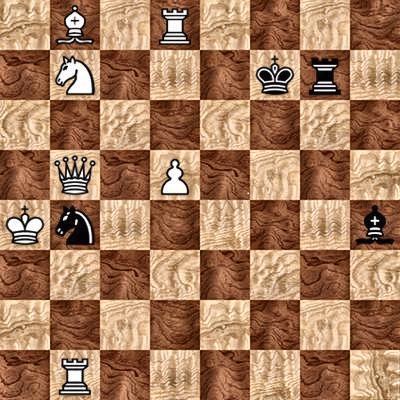black-bishop: (350, 200, 400, 250)
black-king: (250, 50, 300, 100)
black-knight: (50, 200, 100, 250)
black-rook: (300, 50, 350, 100)
white-bishop: (50, 0, 100, 50)
white-king: (0, 200, 50, 250)
white-knight: (50, 50, 100, 100)
white-pawn: (150, 150, 200, 200)
white-queen: (50, 150, 100, 200)
white-rook: (150, 0, 200, 50), (50, 350, 100, 400)
